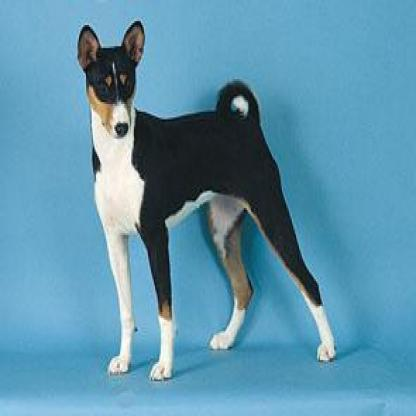basenji: (73, 18, 337, 382)
